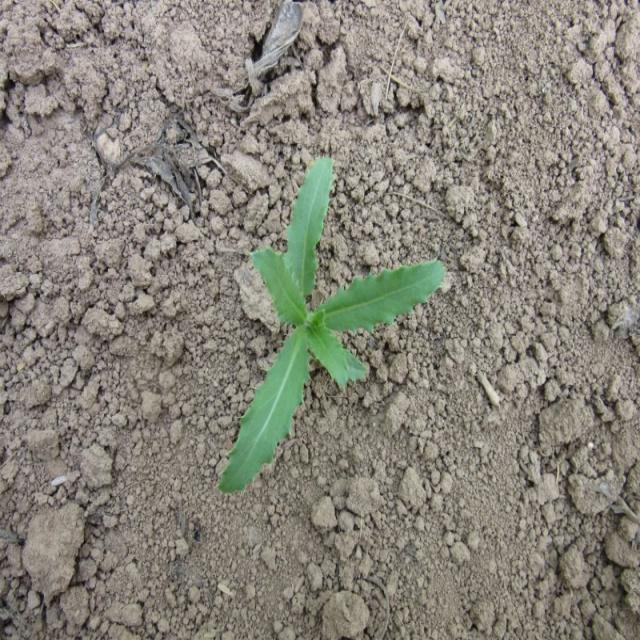field_thistle: (195, 134, 446, 494)
